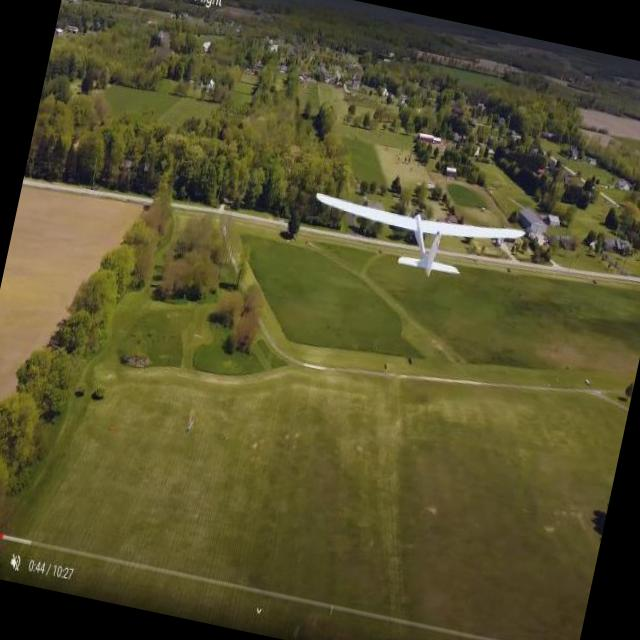UAV: (303, 166, 534, 308)
